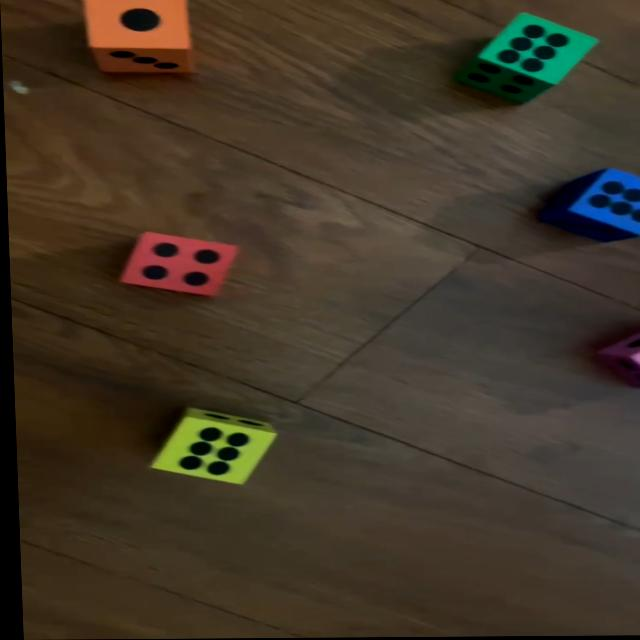blue_block: (536, 168, 640, 244)
red_block: (117, 230, 237, 297)
